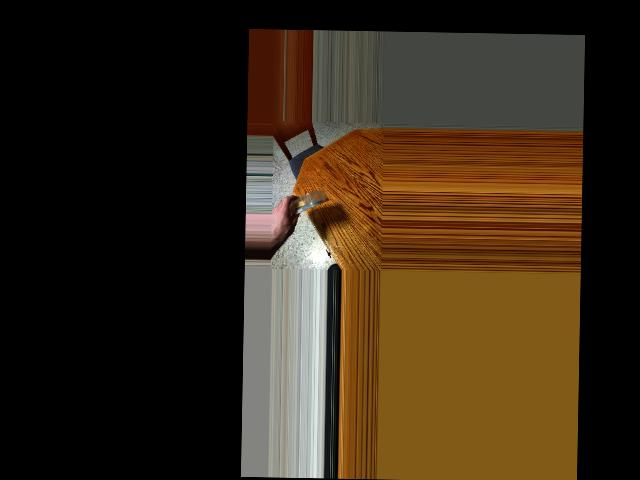cheese: (283, 189, 330, 215)
